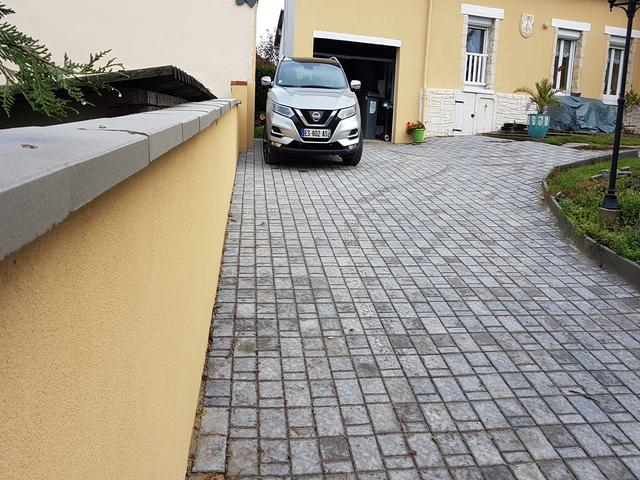Quashquai: (295, 120, 337, 143)
